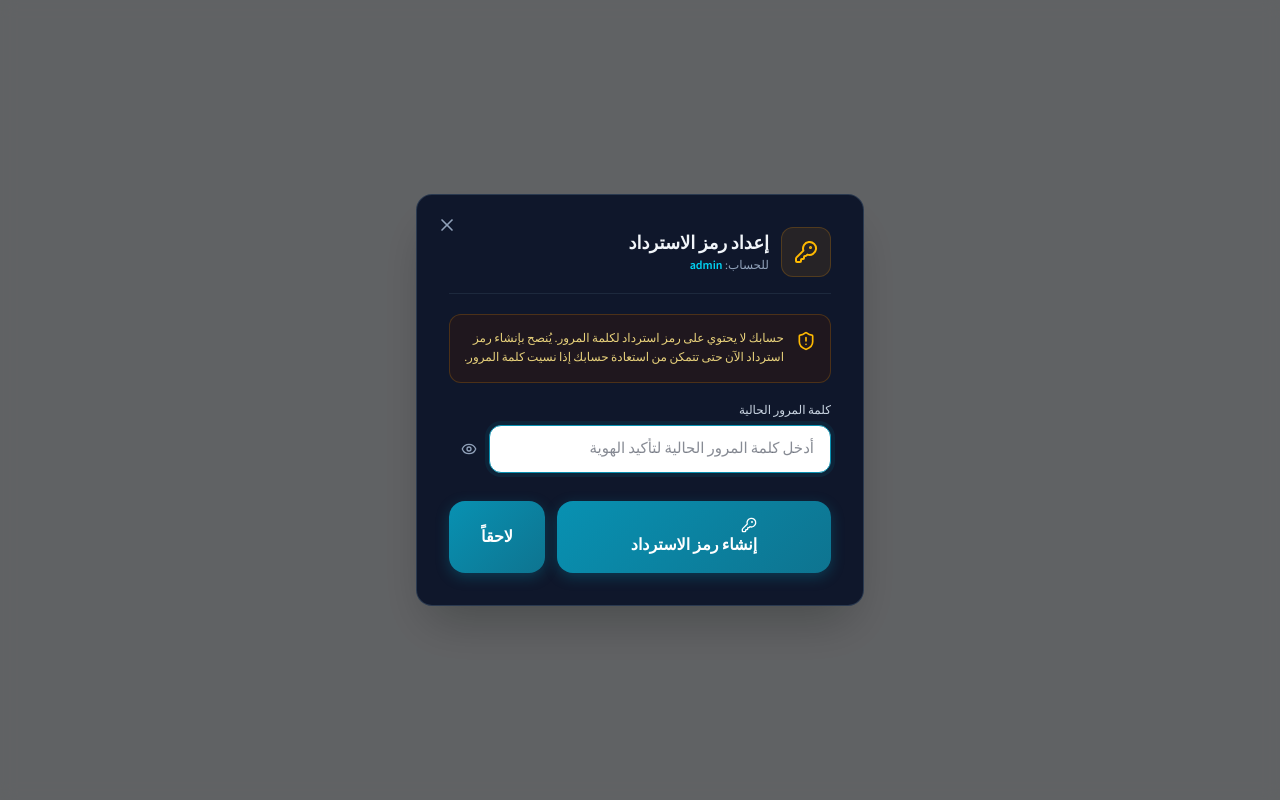
Test: RecoverySetupModal (Legacy mode) › TEST 3: wrong current password rejects and does not create a Recovery Code
In the password field with placeholder "أدخل كلمة المرور الحالية لتأكيد الهوية": (660, 449) [489,425,831,473], type "wrong-password"
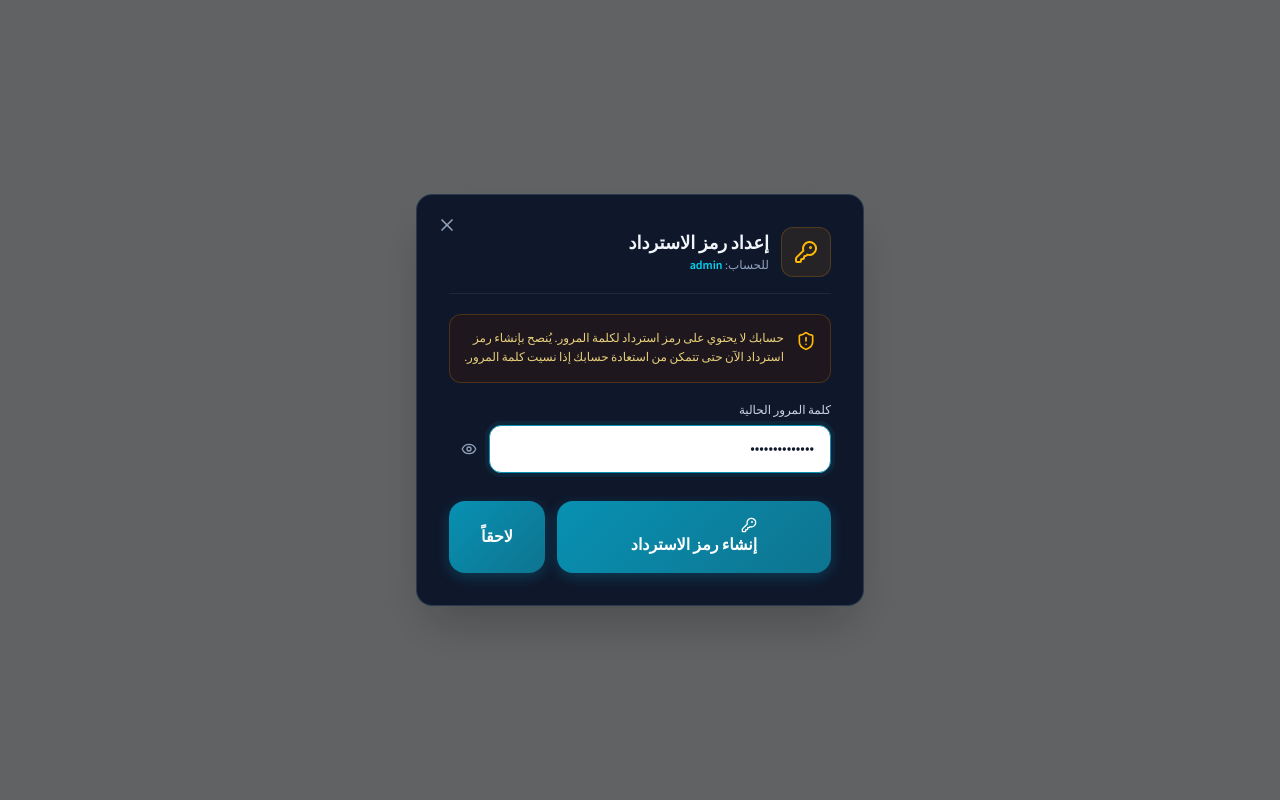
Click the button "إنشاء رمز الاسترداد": (694, 537) [557,501,831,573]
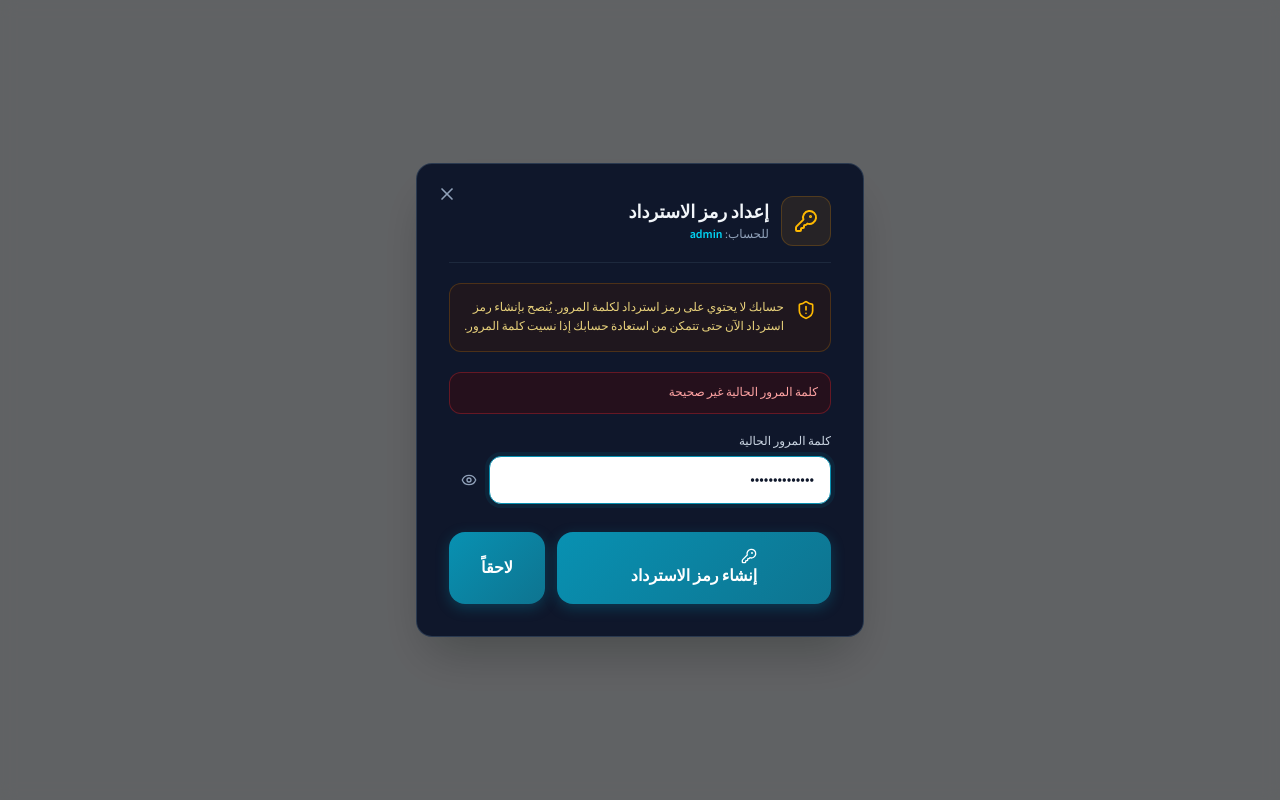
Check: the text "كلمة المرور الحالية غير صحيحة" is shown, box [449,372,831,414]
